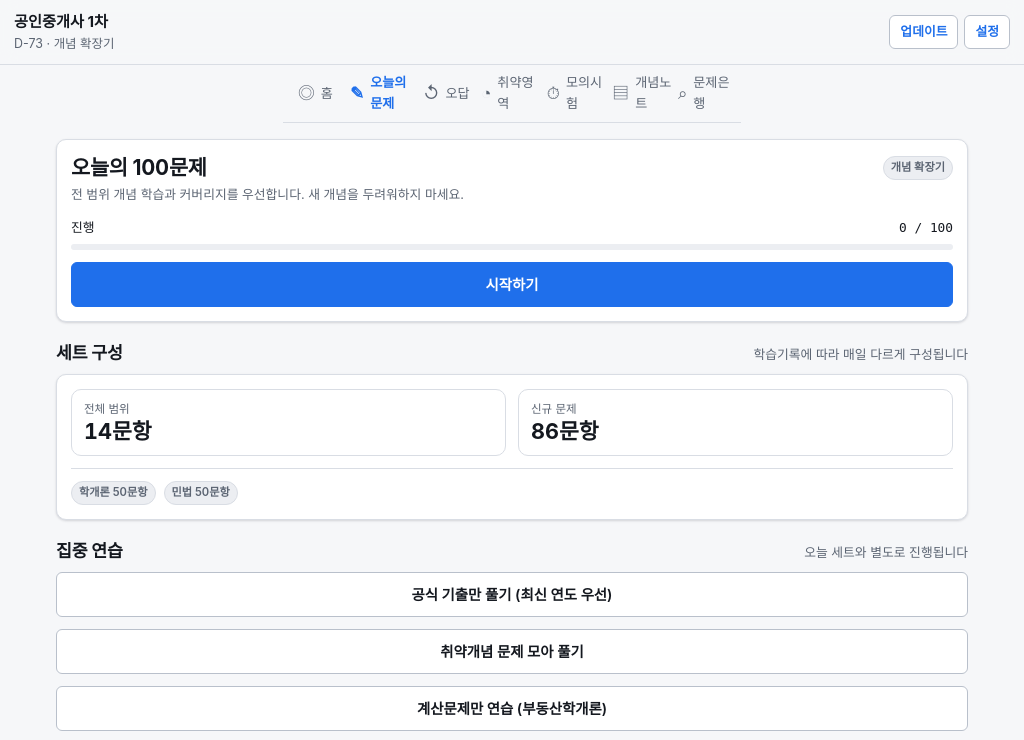
Test: explanation and concept notes › explains every choice and links each concept to its note
The width and height of the screenshot is (1024, 740).
Check: the heading "오늘의 100문제" is shown, box 71,154 -> 207,181
Click the button "시작하기": (512,285) 71,262 -> 953,307
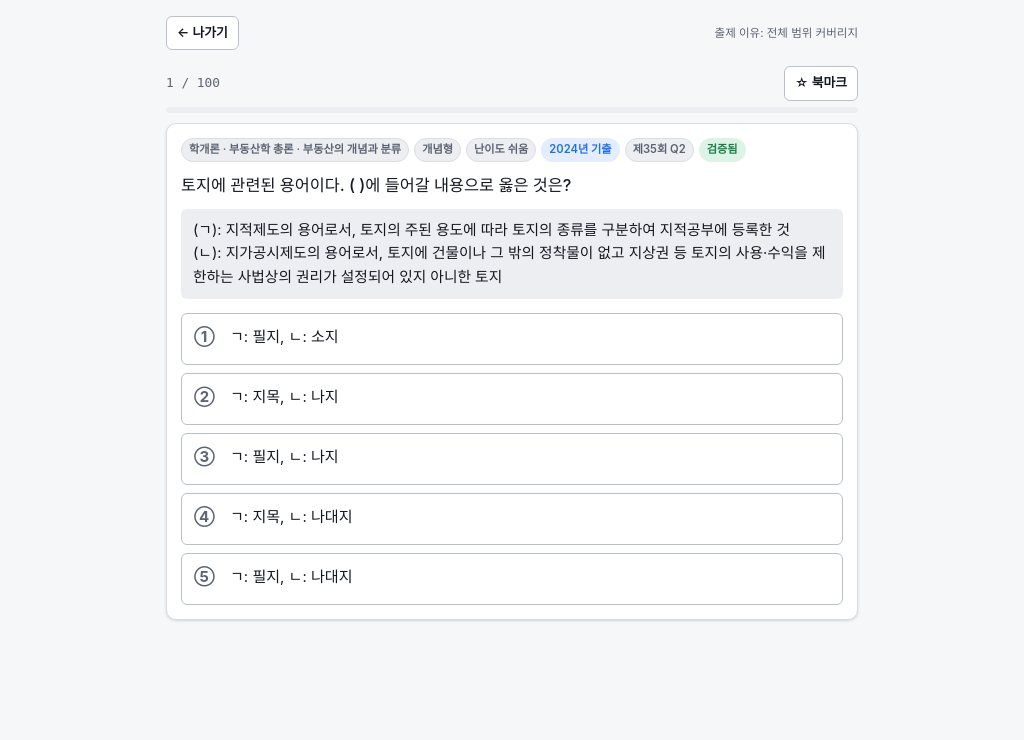
Click the button "⑤ ㄱ: 필지, ㄴ: 나대지": (291,577) 181,553 -> 843,605
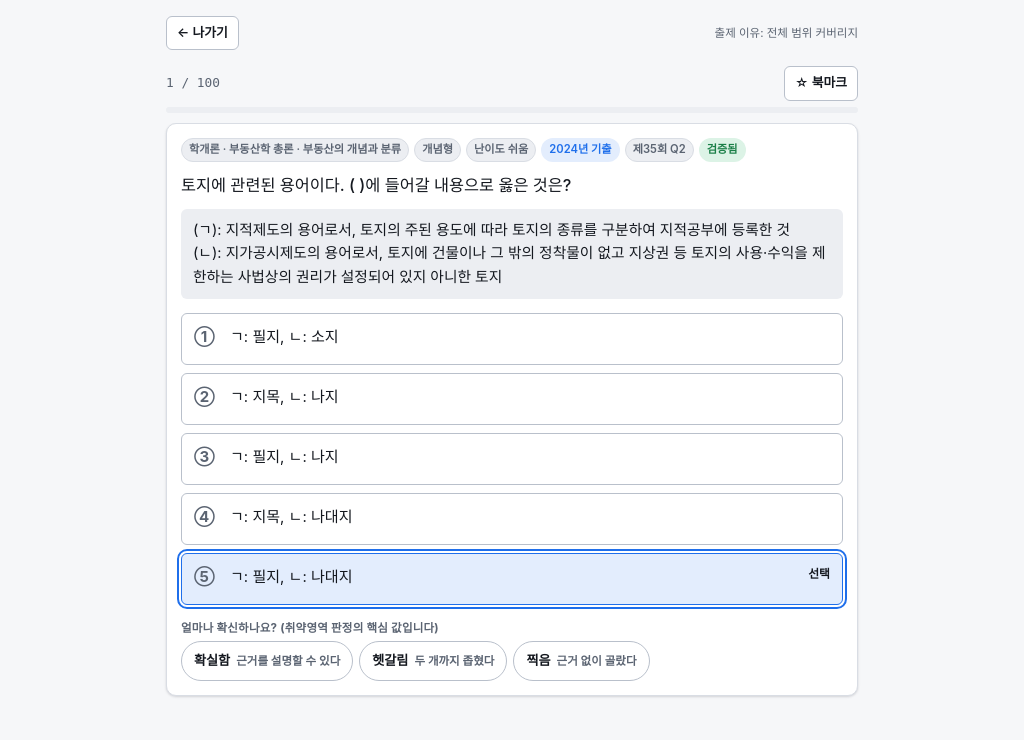
Click the button "확실함": (267,661) 181,641 -> 353,681
(page scrolled)
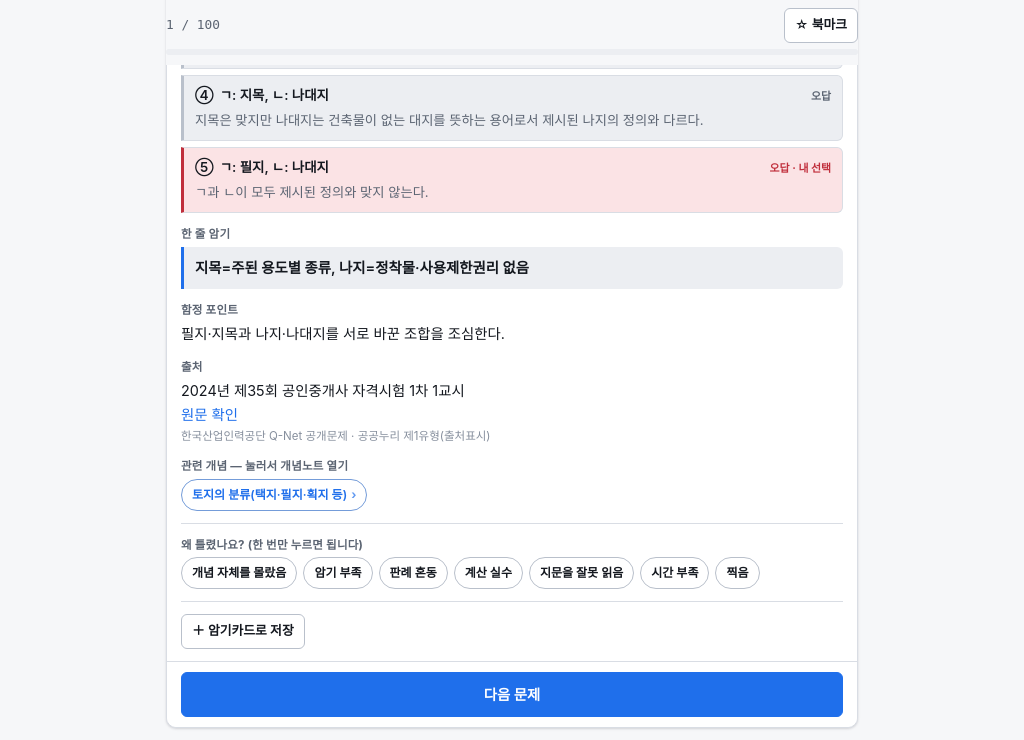
Check: the number of elements with class "choice-note" is 5
Click the link "토지의 분류(택지·필지·획지 등) ›": (274,495) 181,479 -> 367,511
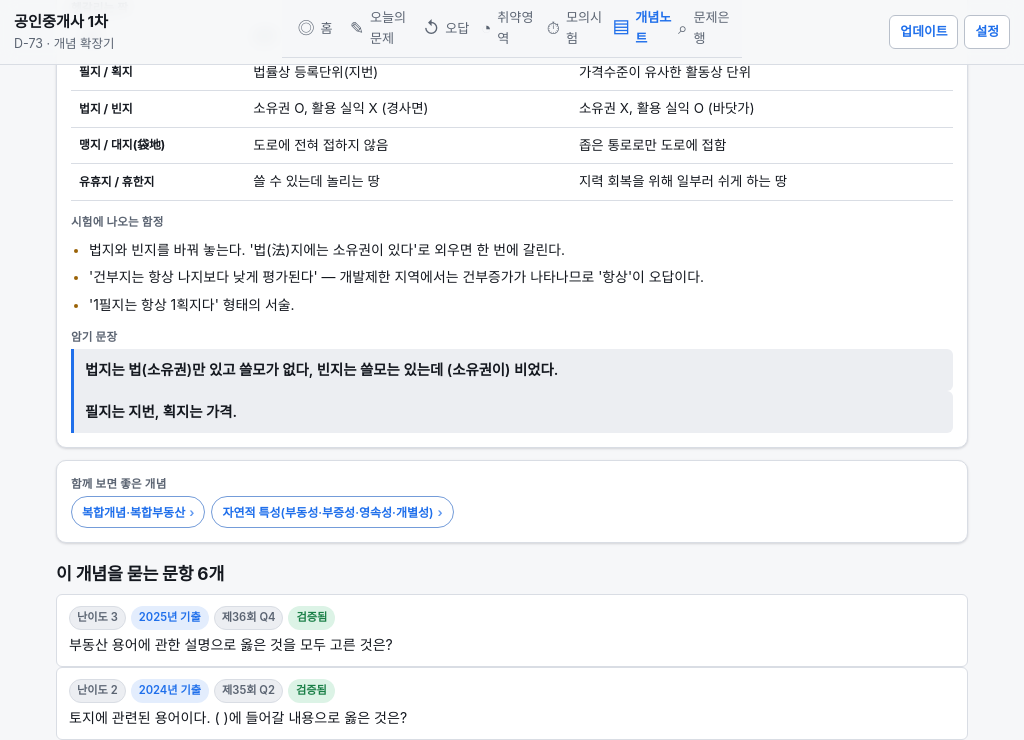
Check: the heading "이 개념을 묻는 문항 6개" is shown, box 56,563 -> 224,586
